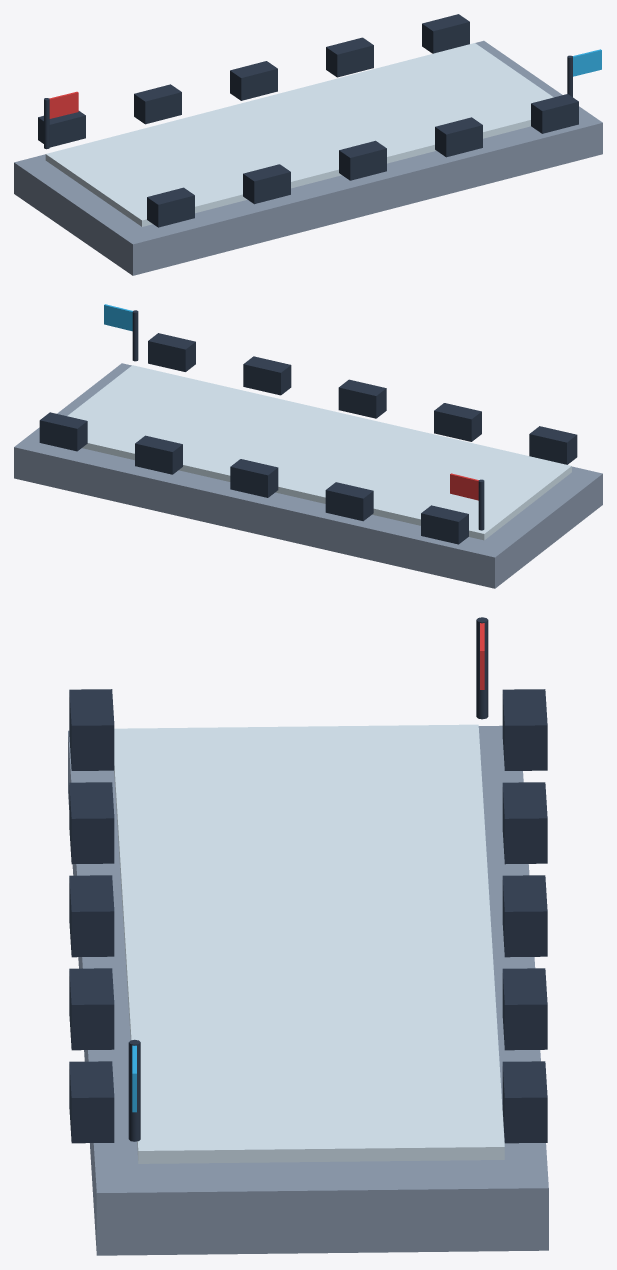
File: toy_castle_wall_walkway.glb
The picture shows the model from 3 angles, top to bottom: view 1: azimuth 30°, elevation 25°; view 2: azimuth 150°, elevation 25°; view 3: azimuth 270°, elevation 25°; orthographic projection. The views are drawn at different scales.
Visible parts, largest first — view 1: solid_clear_walkway_top, solid_wall_body, solid_9, solid_8, solid_4, solid_6, solid_12, solid_7, solid_10, solid_5, solid_11, solid_3 (+2 smaller); view 2: solid_clear_walkway_top, solid_wall_body, solid_5, solid_7, solid_8, solid_11, solid_10, solid_4, solid_3, solid_6, solid_9, solid_12 (+2 smaller); view 3: solid_clear_walkway_top, solid_wall_body, solid_12, solid_11, solid_10, solid_9, solid_8, solid_7, solid_6, solid_4, solid_5, solid_3 (+2 smaller).
Part boxes in pixels (x1=…): solid_clear_walkway_top: x1=45, y1=43, x2=553, y2=226; solid_wall_body: x1=14, y1=40, x2=602, y2=275; solid_9: x1=326, y1=37, x2=373, y2=77; solid_8: x1=339, y1=140, x2=386, y2=180; solid_4: x1=147, y1=187, x2=194, y2=227; solid_6: x1=243, y1=164, x2=290, y2=204; solid_12: x1=531, y1=94, x2=578, y2=133; solid_7: x1=230, y1=61, x2=277, y2=100; solid_10: x1=435, y1=117, x2=482, y2=157; solid_5: x1=134, y1=84, x2=181, y2=124; solid_11: x1=422, y1=14, x2=469, y2=53; solid_3: x1=38, y1=111, x2=85, y2=147; solid_clear_walkway_top: x1=67, y1=365, x2=571, y2=540; solid_wall_body: x1=14, y1=363, x2=602, y2=588; solid_5: x1=325, y1=482, x2=373, y2=521; solid_7: x1=230, y1=459, x2=278, y2=497; solid_8: x1=338, y1=379, x2=386, y2=418; solid_11: x1=39, y1=412, x2=87, y2=451; solid_10: x1=243, y1=356, x2=291, y2=395; solid_4: x1=529, y1=426, x2=577, y2=464; solid_3: x1=421, y1=505, x2=468, y2=544; solid_6: x1=434, y1=403, x2=481, y2=441; solid_9: x1=135, y1=435, x2=182, y2=474; solid_12: x1=148, y1=333, x2=195, y2=371; solid_clear_walkway_top: x1=114, y1=724, x2=504, y2=1163; solid_wall_body: x1=68, y1=725, x2=548, y2=1255; solid_12: x1=69, y1=1061, x2=114, y2=1143; solid_11: x1=502, y1=1061, x2=547, y2=1143; solid_10: x1=69, y1=968, x2=114, y2=1050; solid_9: x1=502, y1=968, x2=547, y2=1050; solid_8: x1=69, y1=875, x2=114, y2=957; solid_7: x1=502, y1=875, x2=547, y2=957; solid_6: x1=69, y1=782, x2=114, y2=864; solid_4: x1=69, y1=689, x2=114, y2=770; solid_5: x1=502, y1=782, x2=547, y2=864; solid_3: x1=502, y1=689, x2=547, y2=770.
Size of the model in its own units: 9.45 by 1.77 by 4.04.
